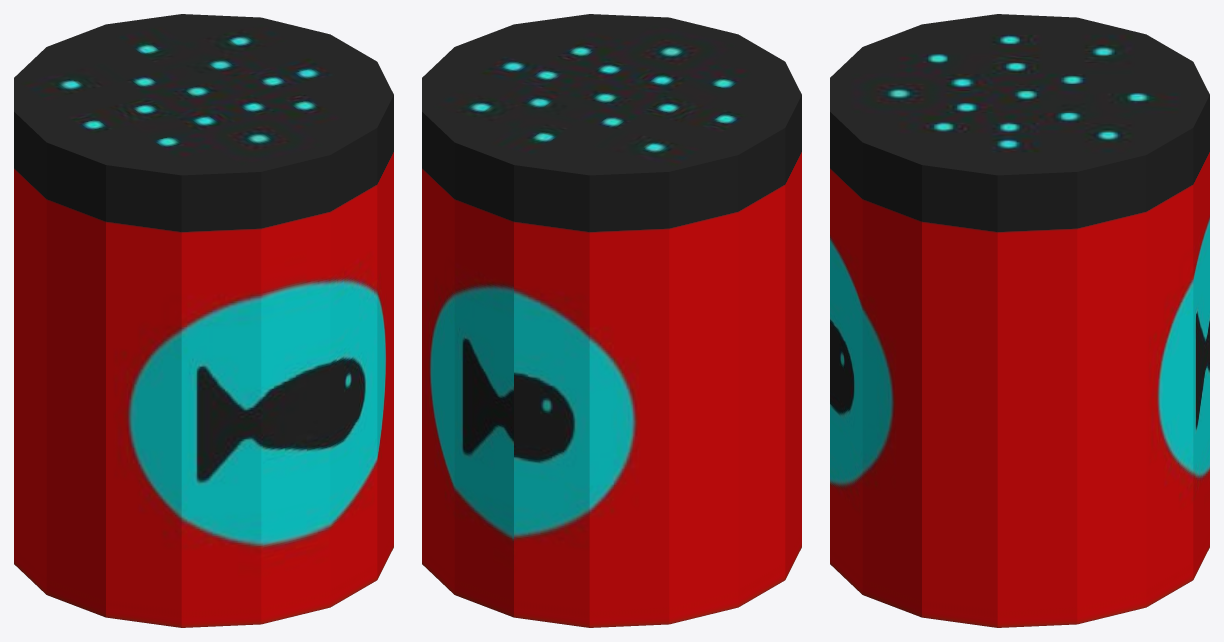
Rendered from fishflakes.glb.
3 views of the same model, side by side, from view 1: azimuth 30°, elevation 25°; view 2: azimuth 150°, elevation 25°; view 3: azimuth 270°, elevation 25° (orthographic).
Parts seen in each view (by area): view 1: Cylinder; view 2: Cylinder; view 3: Cylinder.
Part boxes in pixels (x1,y1,x2,y2): Cylinder: (14, 14, 393, 627); Cylinder: (422, 14, 801, 627); Cylinder: (830, 14, 1209, 627).
Bounding box in the file's own units: 1.99 × 2.6 × 1.98.
Materials: 1 (1 with a texture image).
